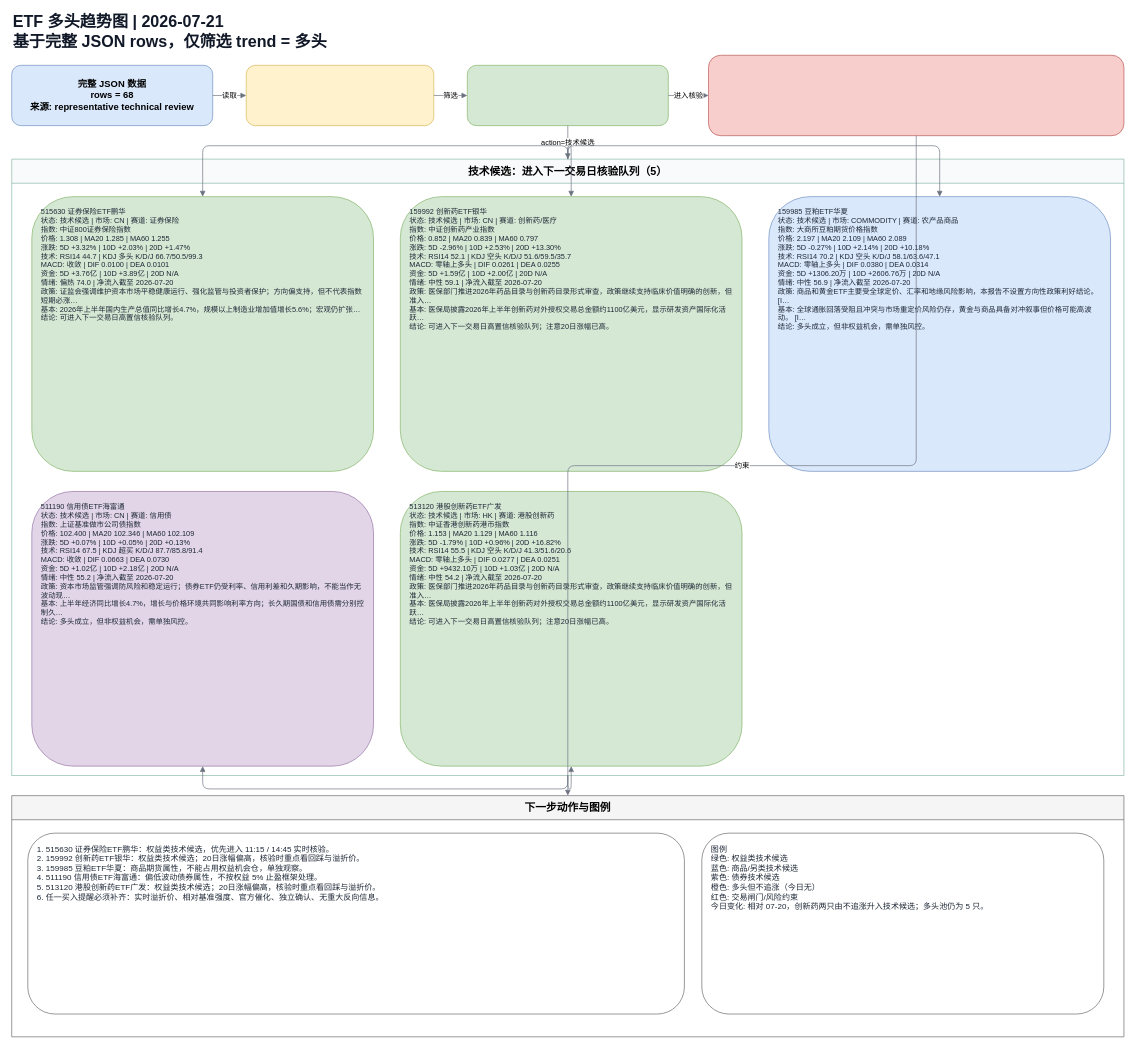
Some shapes in this 1136 by 1049 pixel diagram are drawn without their labels. Each missing label, with the centre of its shape:
"交易闸门 本图是筛选与解释，不是买入指令。正式提醒前仍需核对实时溢折价、相对强度、一级来源催化和风险事件。" belongs at (x=916, y=95).
"筛选条件 trend == 多头 保留完整指标字段" belongs at (x=340, y=95).
"筛选结果 5 只 ETF 技术候选 5" belongs at (x=567, y=95).
